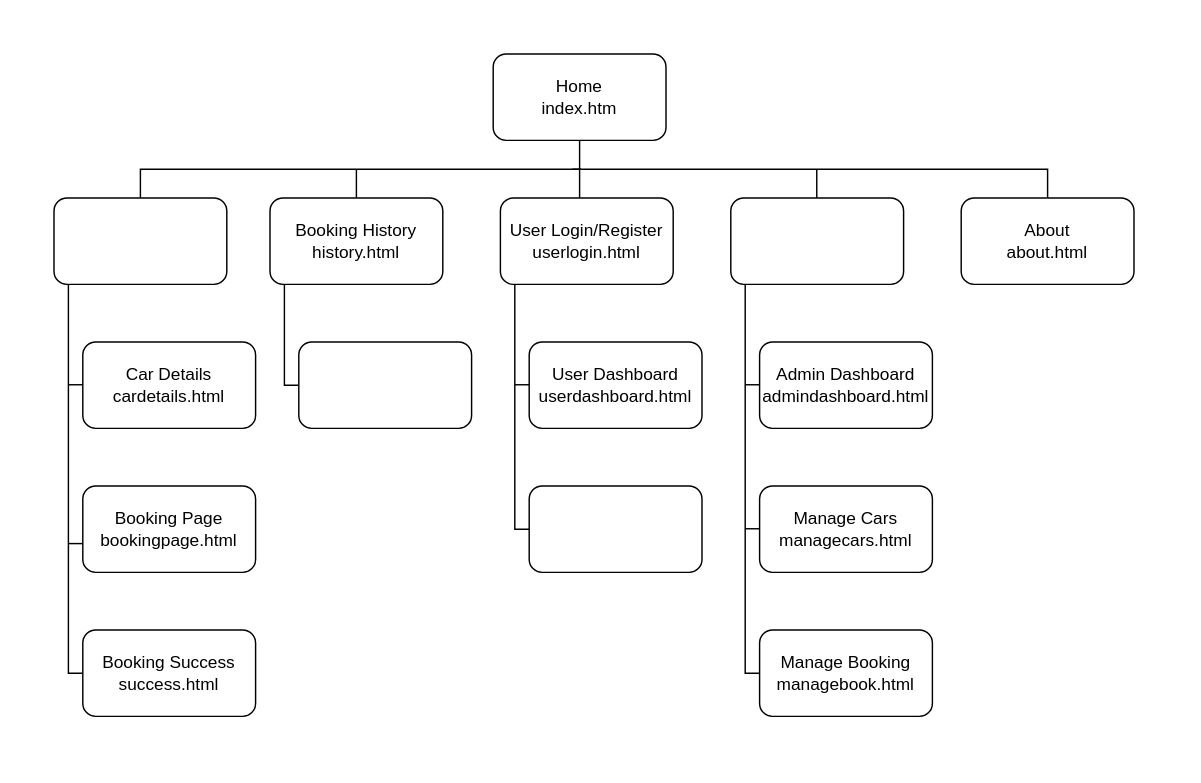
Image size: 1201x783. Some labels were removed from this diagram. The box of each missing label's shape, as (x1, y1, x2, y2) in pixels:
Admin Login adminlogin.html: (729, 197, 904, 284)
Booking Details bookingdetails.html: (297, 341, 472, 428)
Car Listing cars.html: (53, 197, 227, 284)
Profile profile.html: (528, 485, 702, 572)
